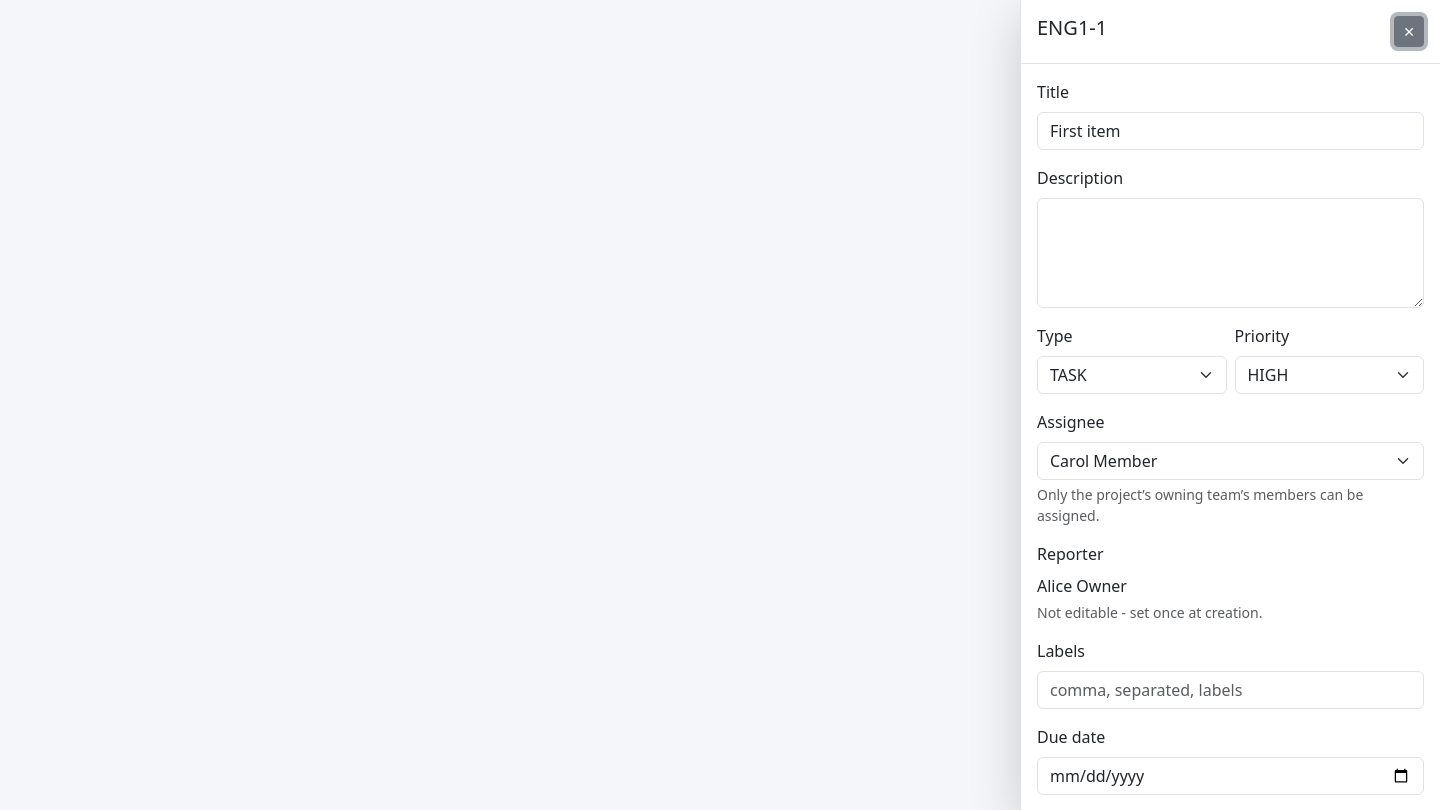
ItemDrawer › shows the server-side rejection clearly if an invalid assignee is somehow submitted
Select "Dave Outsider" in the dropdown labelled "Assignee". click: [1230, 461]
box: [1037,442,1424,480]
(page scrolled)
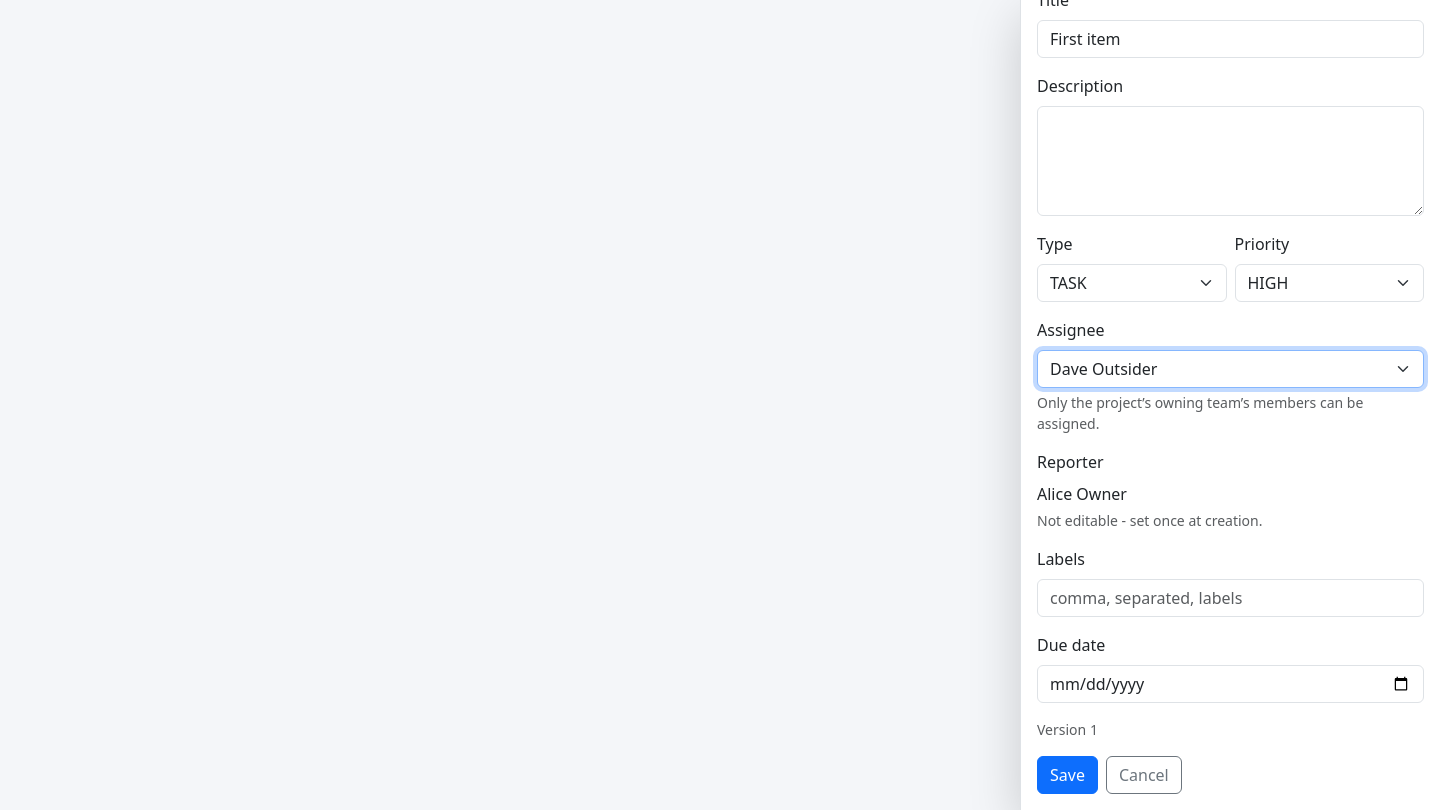
Click the button "Save". click: [1067, 775]
box: [1037,756,1098,794]
(page scrolled)
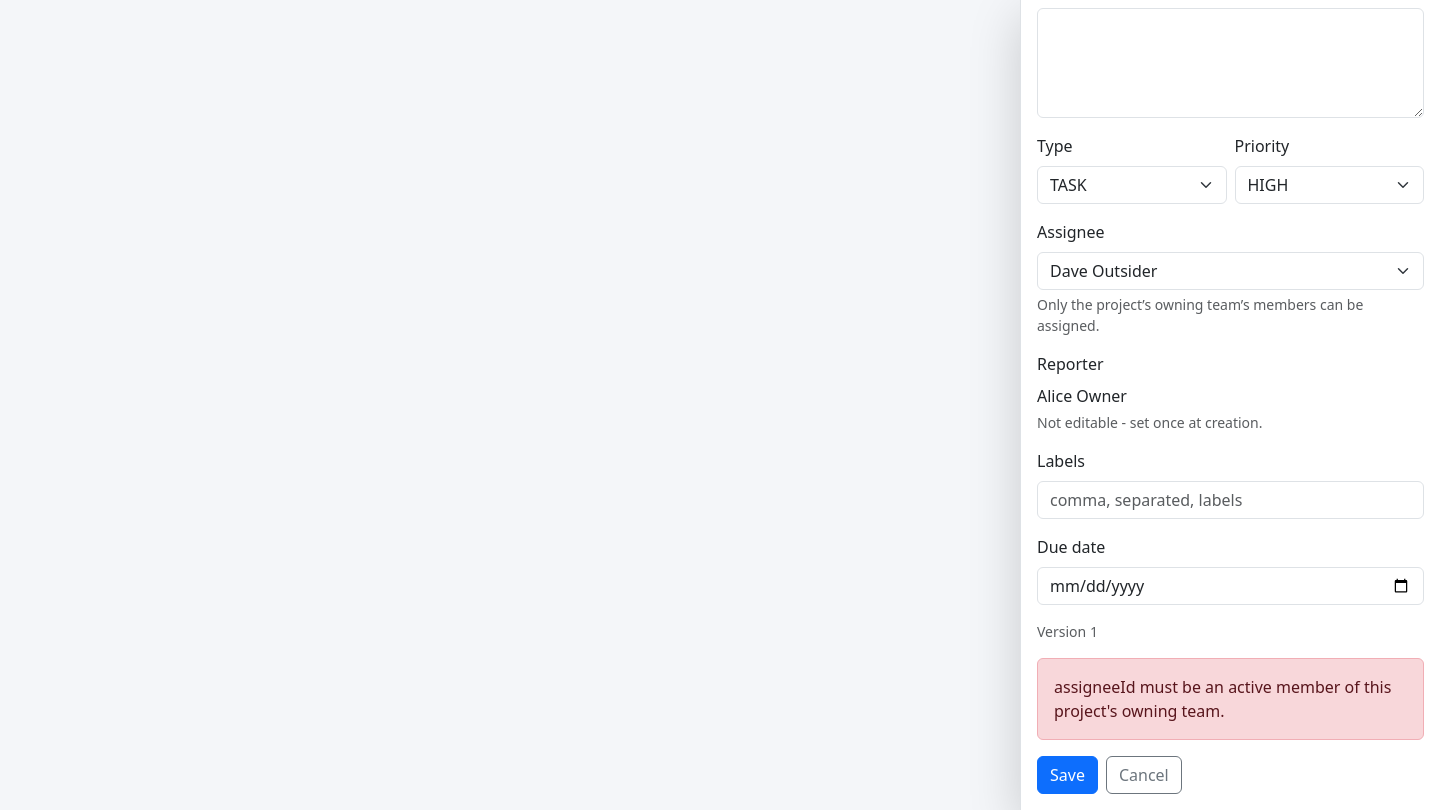
Check: the text "assigneeId must be an active member of this project's owning team." is shown, box [1037,658,1424,740]
